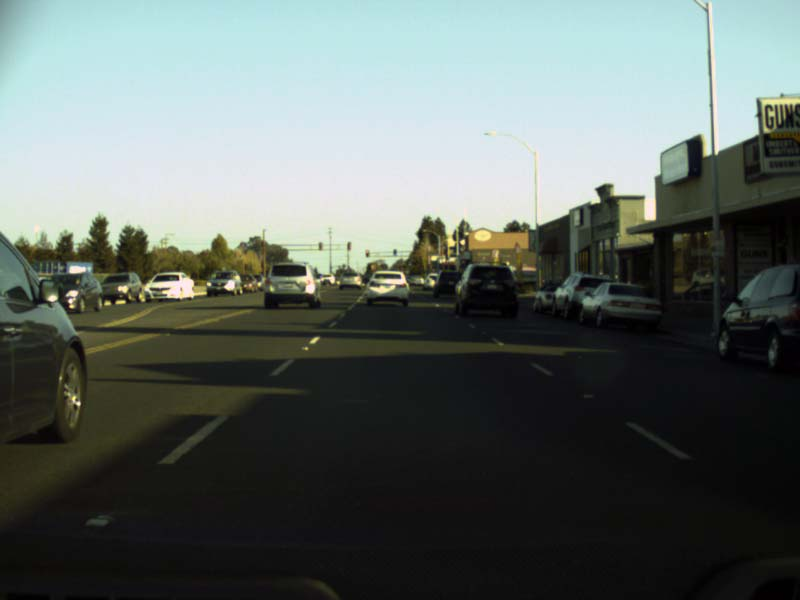Red: (365, 250, 369, 256)
